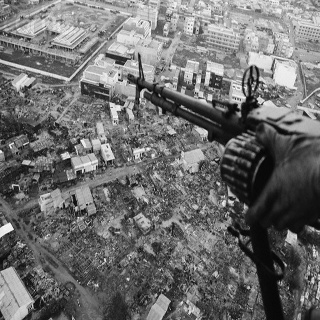rifle: (126, 53, 320, 227)
